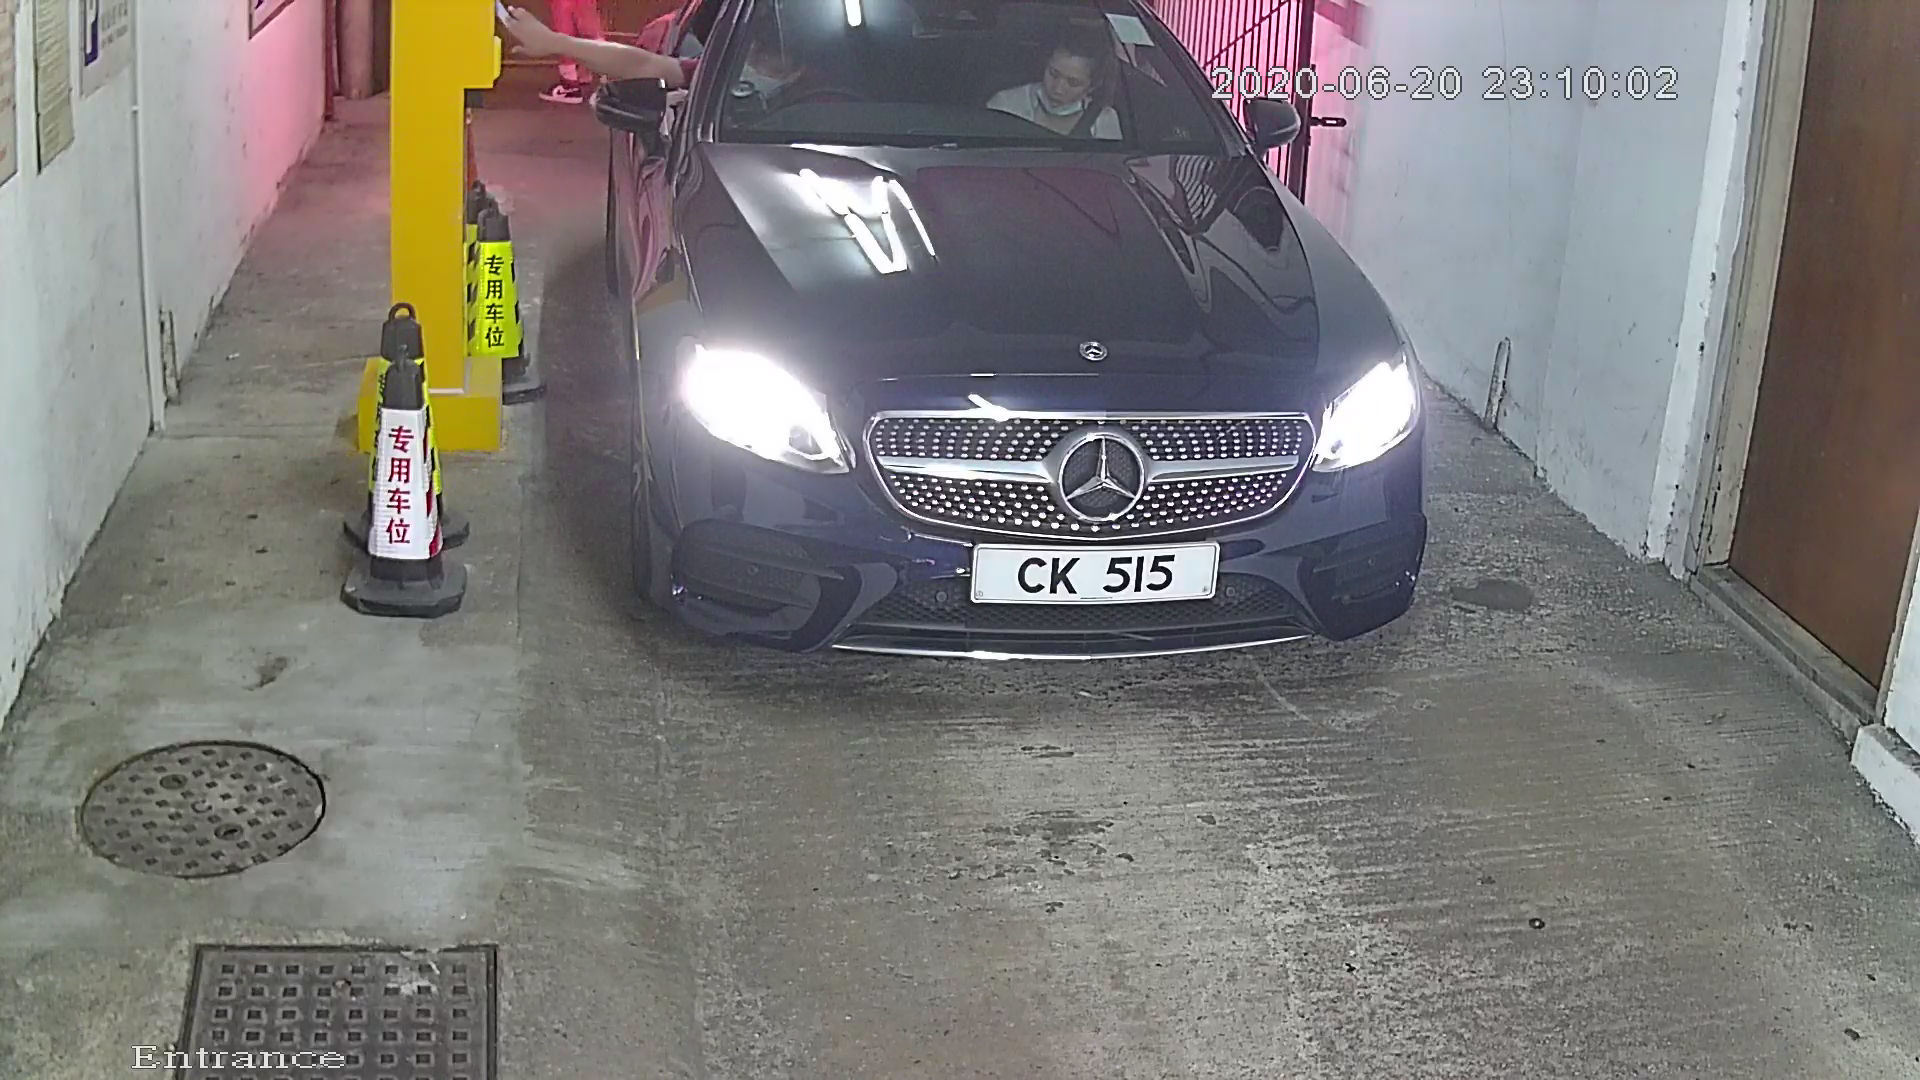privatecar: (599, 3, 1498, 761)
